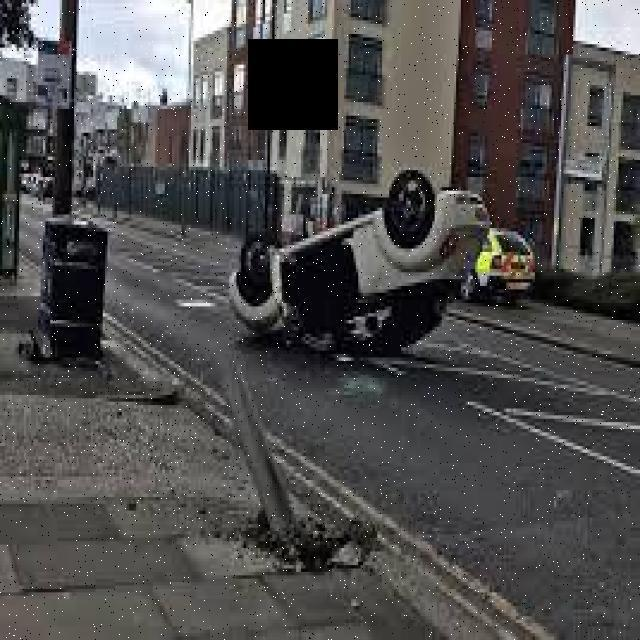accident: (227, 169, 495, 363)
